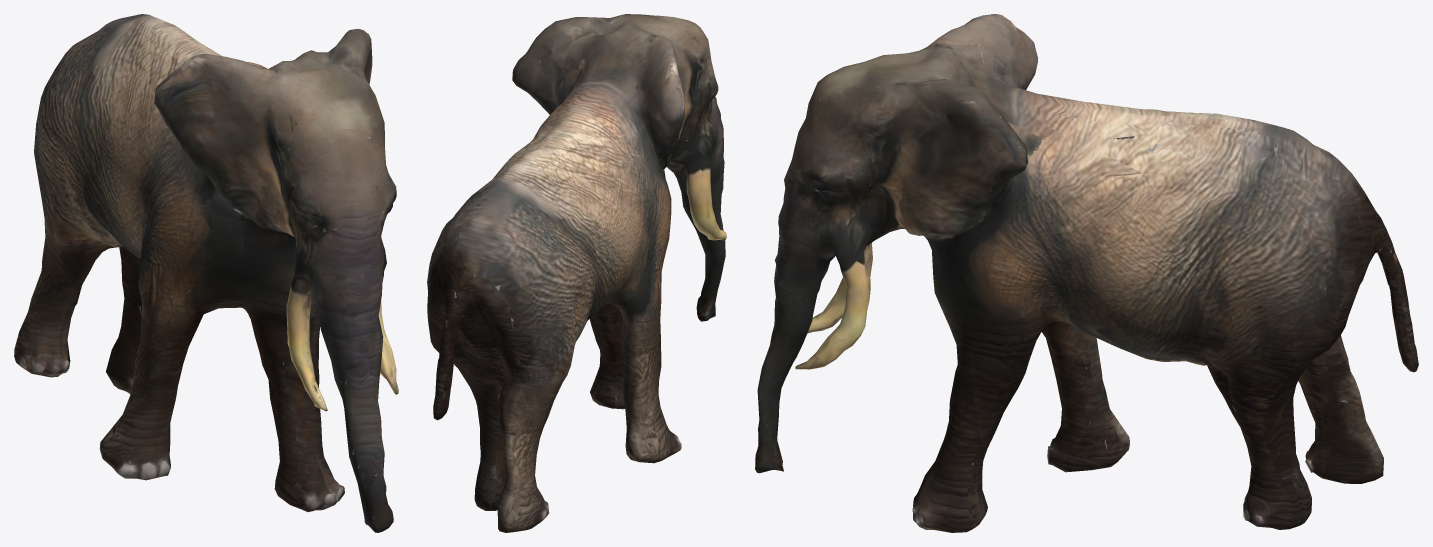
The model's file is elefante_small.obj.
The picture shows the model from 3 angles, left to right: view 1: azimuth 30°, elevation 25°; view 2: azimuth 150°, elevation 25°; view 3: azimuth 270°, elevation 25°; orthographic projection. The views are drawn at different scales.
Parts seen in each view (by area): view 1: mesh_0; view 2: mesh_0; view 3: mesh_0.
Boxes of the visible parts, x1,y1,x2,y2 form: mesh_0: (14, 14, 398, 532); mesh_0: (427, 14, 726, 532); mesh_0: (755, 14, 1418, 532).
Size of the model in its own units: 3.24 by 6.28 by 7.98.
Materials: 1 (1 with a texture image).
